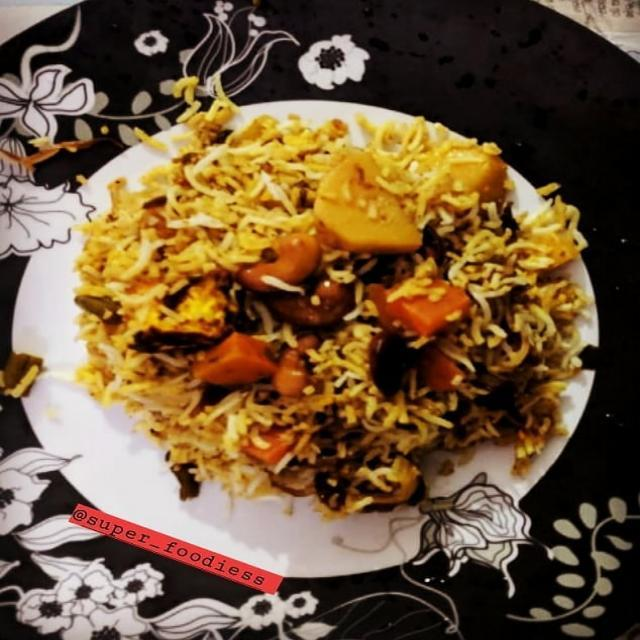biryani: (38, 62, 590, 563)
